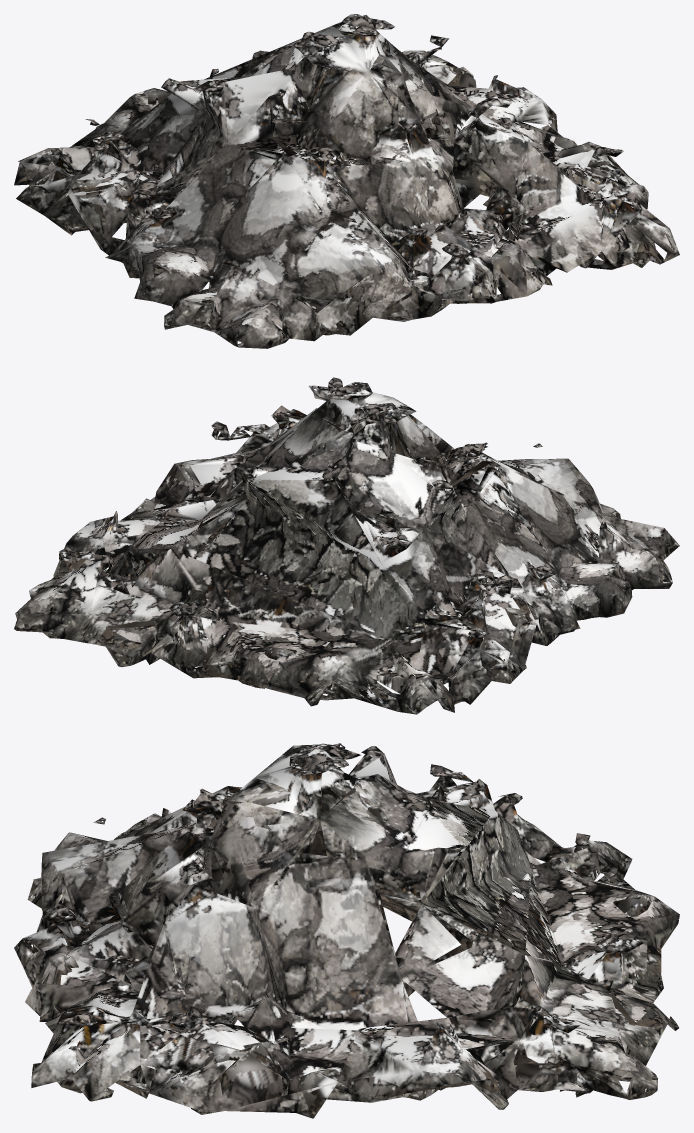
Rendered from InkPart06_BaseMound.fbx.
3 renders of one model, top to bottom at view 1: azimuth 30°, elevation 25°; view 2: azimuth 150°, elevation 25°; view 3: azimuth 270°, elevation 25°, orthographic. The views are drawn at different scales.
Parts seen in each view (by area): view 1: texture_mapping; view 2: texture_mapping; view 3: texture_mapping.
Part boxes in pixels (<box>): texture_mapping: <box>14,14,679,348</box>; texture_mapping: <box>14,377,679,714</box>; texture_mapping: <box>14,743,679,1118</box>.
Bounding box in the file's own units: 0.9663 × 0.9611 × 0.3648.
1 material, 1 textured.
